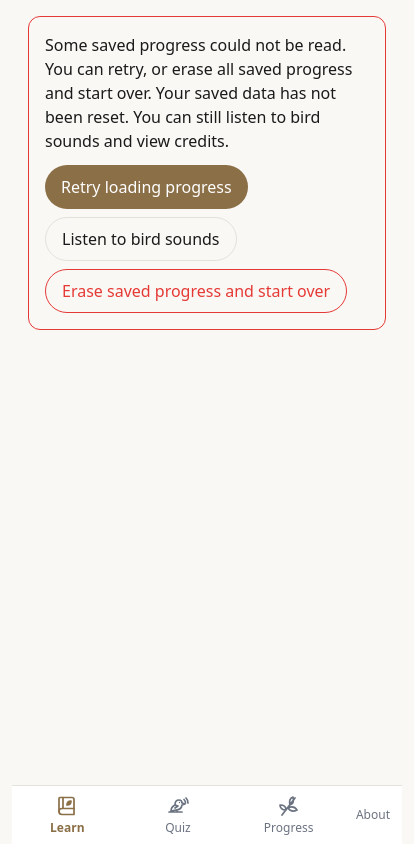
it: requires confirmation before erasing corrupt progress, retains failed erasures, and returns to Learn after success
The width and height of the screenshot is (414, 844).
Click the button "Erase saved progress and start over": (196, 291) [45,269,347,313]
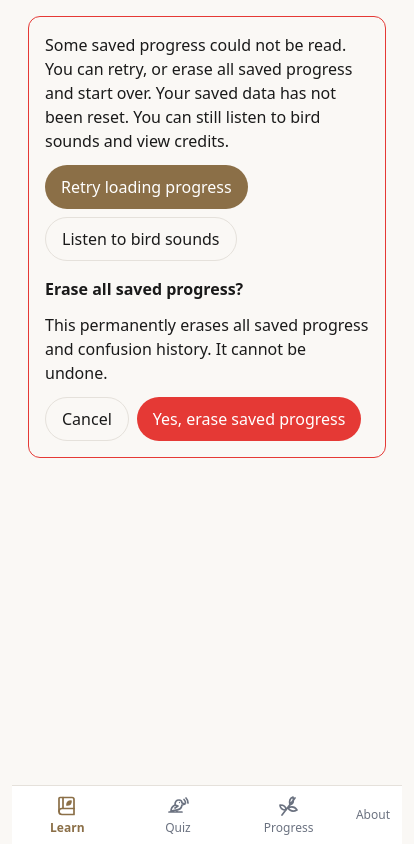
Expected: the element "Erase all saved progress?" shows "It cannot be undone", [45,314,368,384]
Click the button "Cancel": (87, 419) [45,397,129,441]
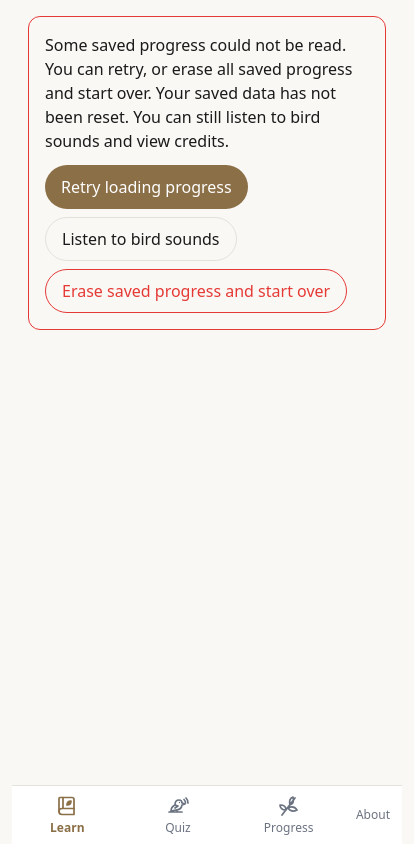
Click the button "Erase saved progress and start over": (196, 291) [45,269,347,313]
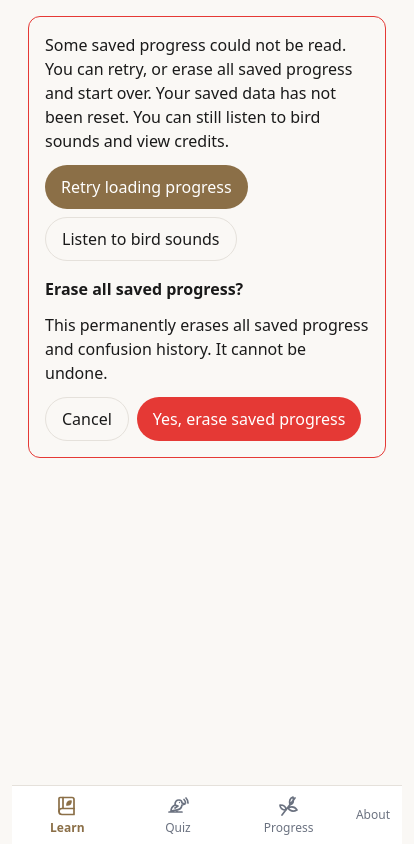
Click the button "Yes, erase saved progress": (249, 419) [137,397,361,441]
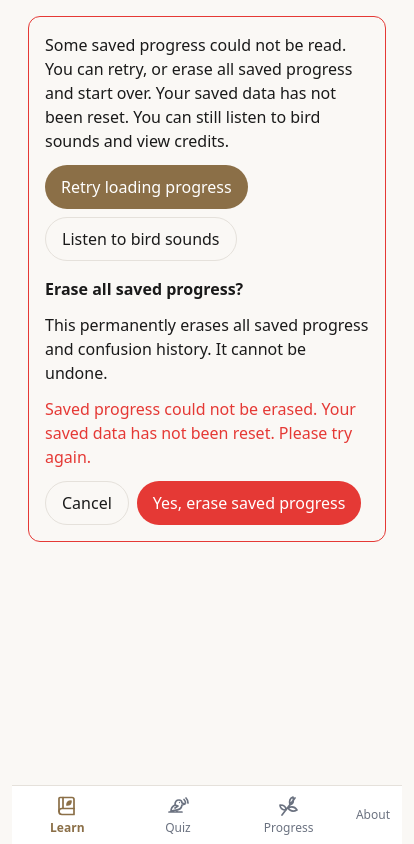
Expected: the text "Saved progress could not be erased" shows "has not been reset", [45,398,356,468]
Click the button "Yes, erase saved progress": (249, 503) [137,481,361,525]
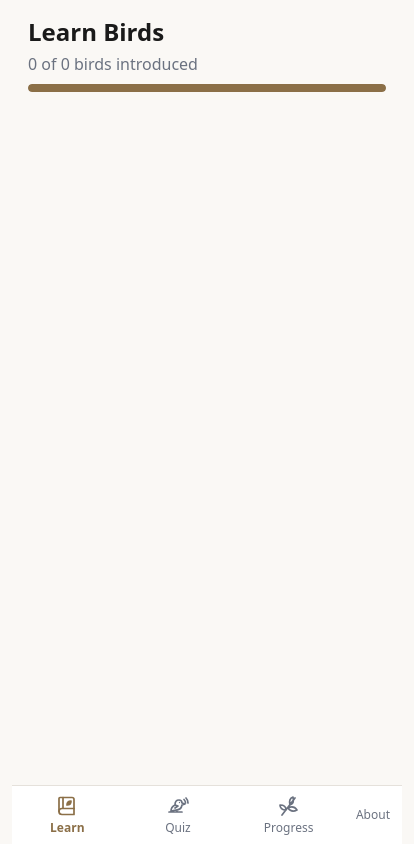
Expected: the heading "Learn Birds" is shown, [28,15,164,48]
Expected: the message is gone
